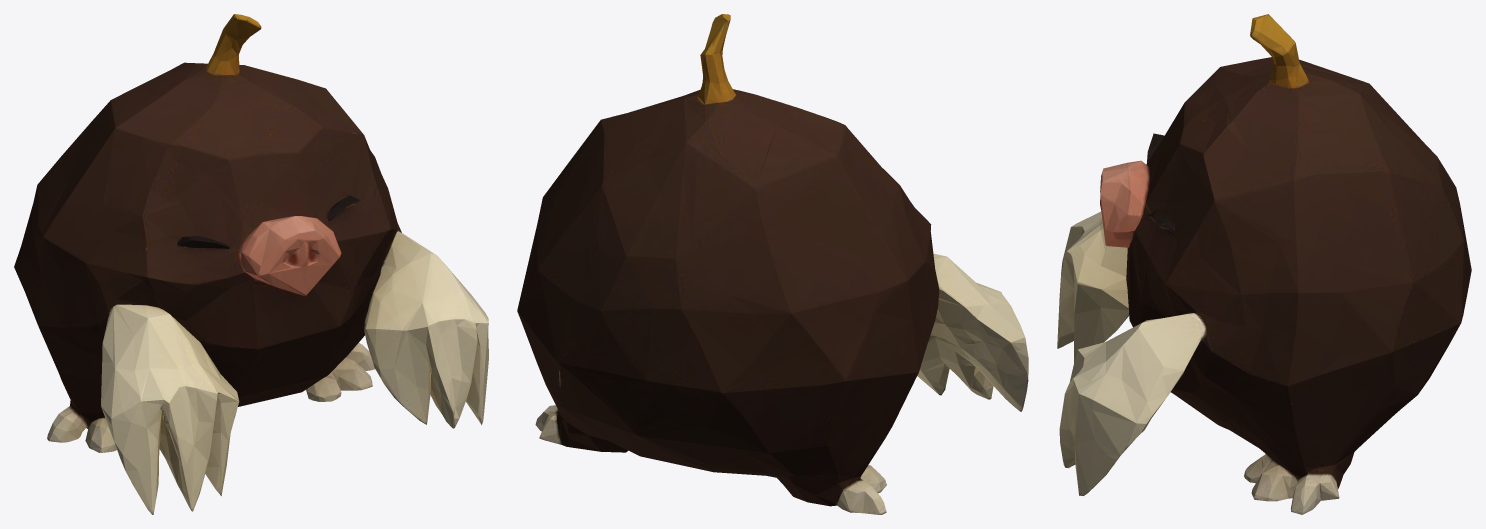
File: racines_monstre_taupe.glb
The picture shows the model from 3 angles, left to right: view 1: azimuth 30°, elevation 25°; view 2: azimuth 150°, elevation 25°; view 3: azimuth 270°, elevation 25°; orthographic projection. The views are drawn at different scales.
Visible parts, largest first — view 1: geometry_0; view 2: geometry_0; view 3: geometry_0.
Part boxes in pixels (x1,y1,x2,y2): geometry_0: (14, 14, 488, 514); geometry_0: (517, 14, 1028, 514); geometry_0: (1057, 14, 1471, 514).
Size of the model in its own units: 0.9931 by 0.9908 by 0.8771.
Materials: 1 (1 with a texture image).
